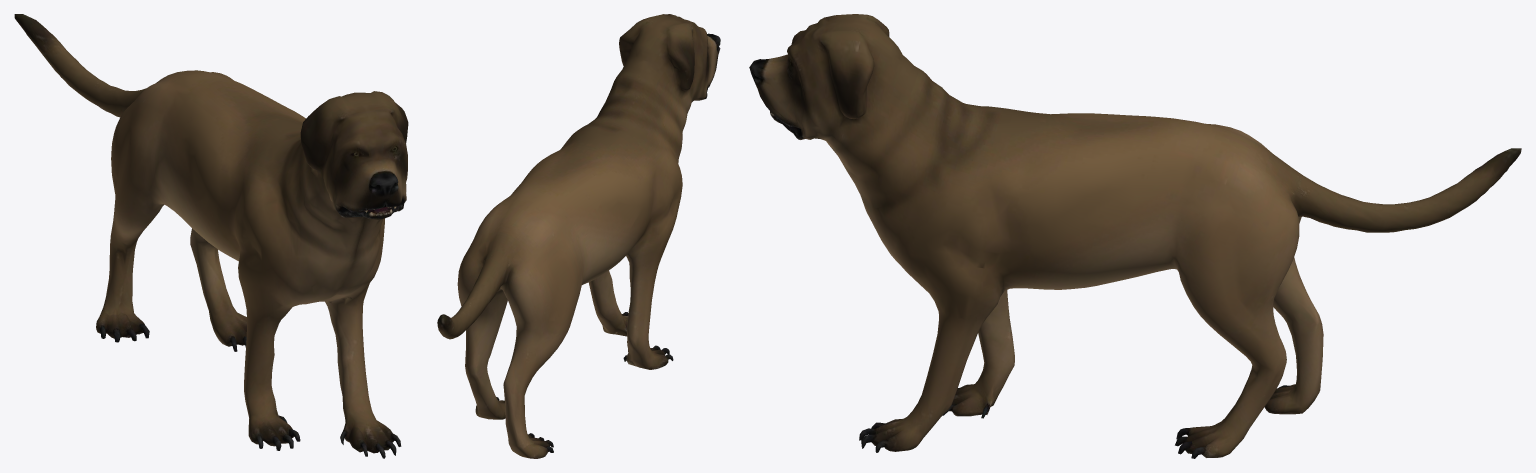
Rendered from MZ4250 - Mastiff.glb.
The picture shows the model from 3 angles, left to right: view 1: azimuth 30°, elevation 25°; view 2: azimuth 150°, elevation 25°; view 3: azimuth 270°, elevation 25°; orthographic projection. The views are drawn at different scales.
Visible parts, largest first — view 1: Mastiff; view 2: Mastiff; view 3: Mastiff.
Part boxes in pixels (x1,y1,x2,y2): Mastiff: (14,14,408,458); Mastiff: (437,14,720,458); Mastiff: (749,14,1521,458).
Size of the model in its own units: 0.2297 by 0.6251 by 1.08.
Materials: 1 (1 with a texture image).
